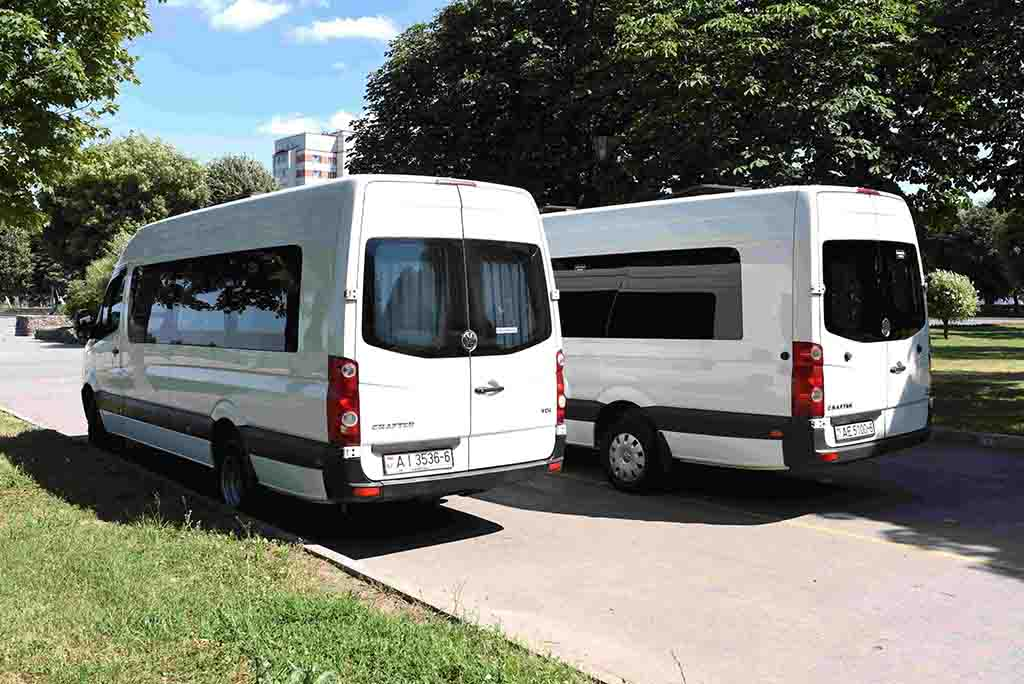van: (86, 172, 568, 525), (563, 183, 940, 496)
